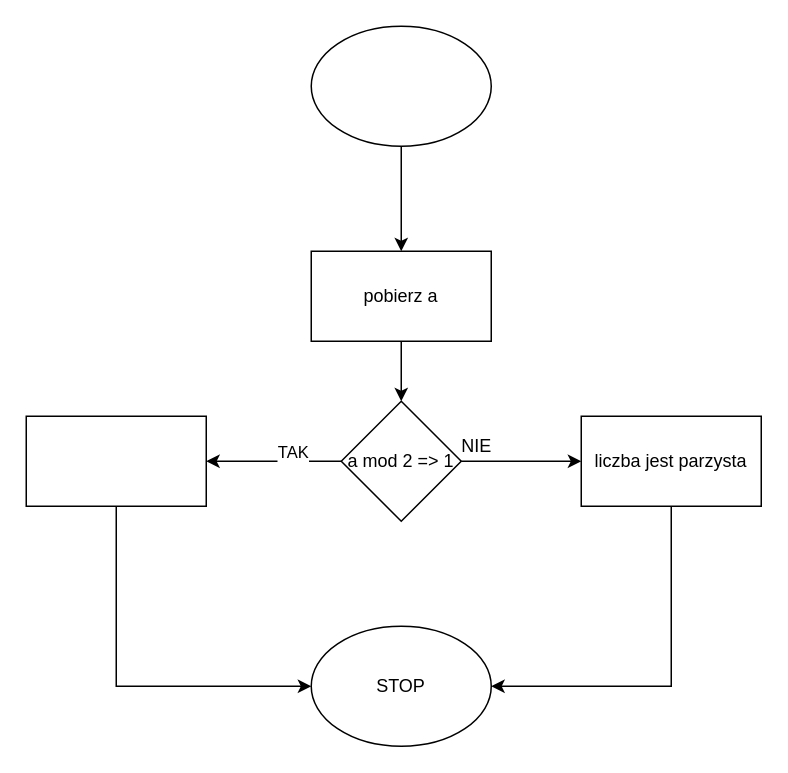
This 788x773 diagram has some shape labels left out. The shapes that lost their labels are listed below. From the top down, each one's centre as x and y in pixels, then its label:
At pixel 400 85: "START".
At pixel 115 460: "liczba jest nieparzysta".
